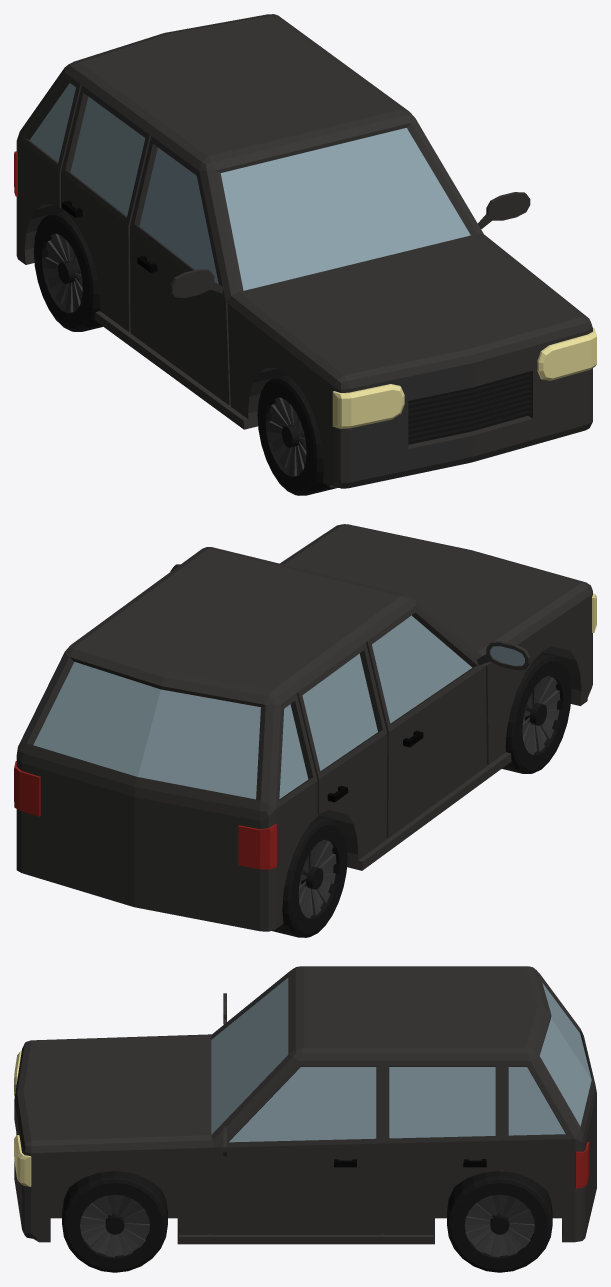
File: CarBlack.fbx
3 views of the same model, one above another, from view 1: azimuth 30°, elevation 25°; view 2: azimuth 150°, elevation 25°; view 3: azimuth 270°, elevation 25° (orthographic). The views are drawn at different scales.
Parts seen in each view (by area): view 1: Cube; view 2: Cube; view 3: Cube.
Part boxes in pixels (x1,y1,x2,y2): Cube: (14, 14, 596, 495); Cube: (14, 524, 596, 937); Cube: (14, 966, 596, 1272).
Bounding box in the file's own units: 222 × 147 × 364.
